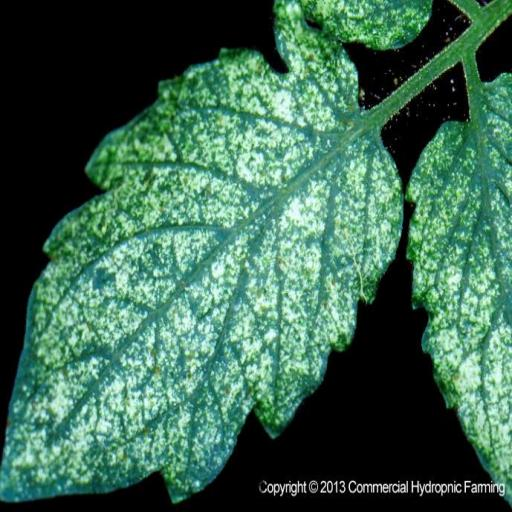disease_tomato: (0, 0, 403, 512), (408, 69, 512, 511)
